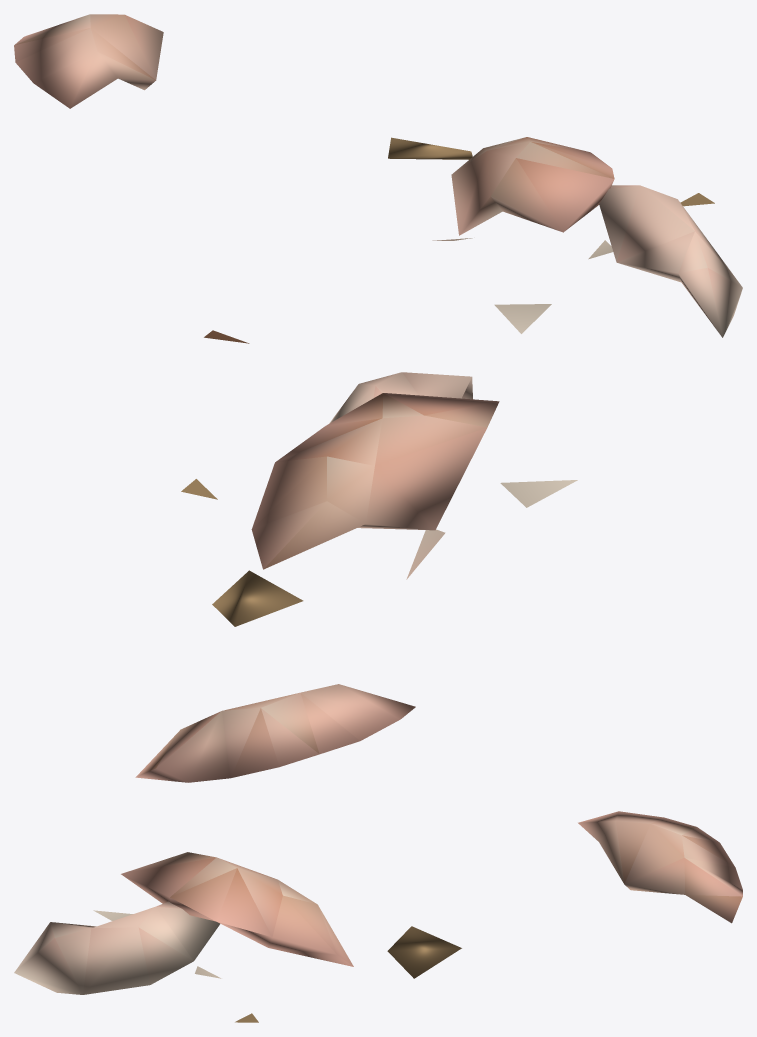
Rendered from shore_gc_shells_a_lod2.glb.
The picture shows the model from 3 angles, top to bottom: view 1: azimuth 30°, elevation 25°; view 2: azimuth 150°, elevation 25°; view 3: azimuth 270°, elevation 25°; orthographic projection. The views are drawn at different scales.
Parts seen in each view (by area): view 1: shore_gc_shells_a.001; view 2: shore_gc_shells_a.001; view 3: shore_gc_shells_a.001.
Part boxes in pixels (x1=…): shore_gc_shells_a.001: x1=14, y1=14, x2=742, y2=343; shore_gc_shells_a.001: x1=135, y1=372, x2=577, y2=782; shore_gc_shells_a.001: x1=14, y1=811, x2=742, y2=1022.
Bounding box in the file's own units: 1.65 × 0.3454 × 2.53.
